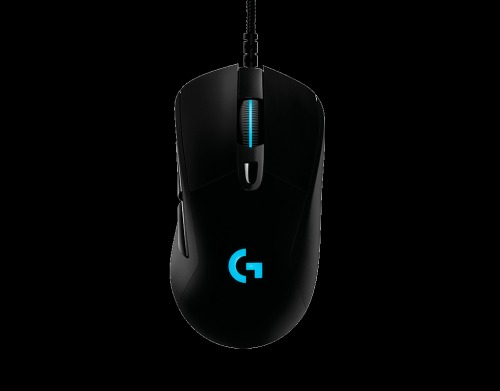mouse: (157, 64, 335, 364)
